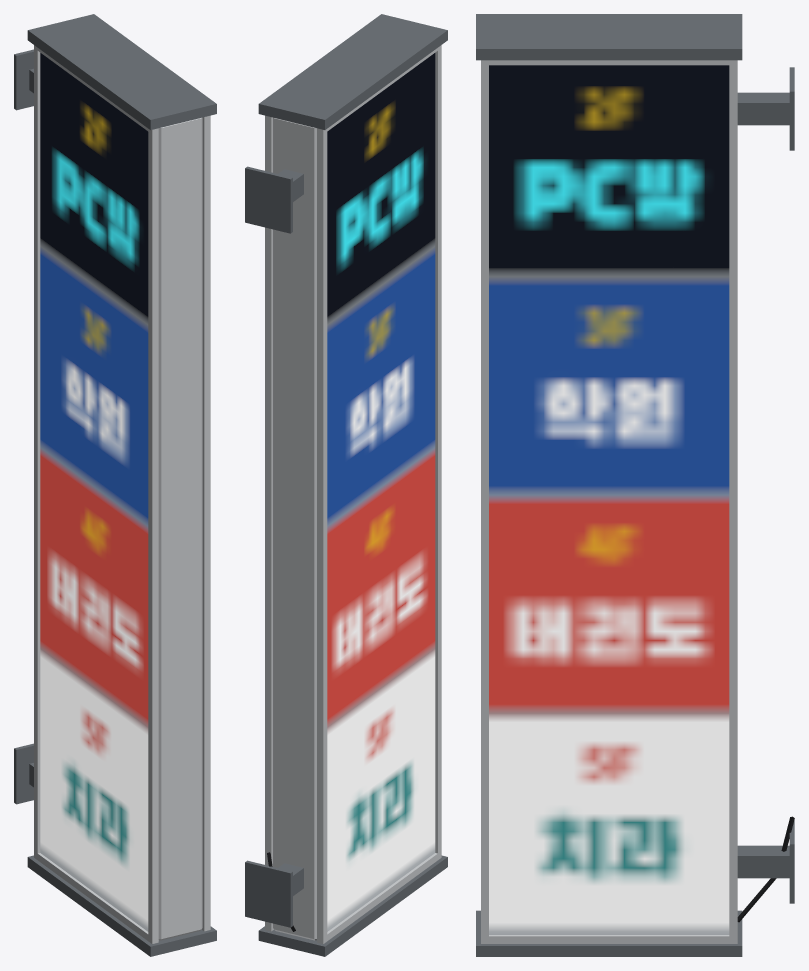
File: SC_Shop_Projecting_Sign_Tenants.gltf
3 views of the same model, side by side, from view 1: azimuth 30°, elevation 25°; view 2: azimuth 150°, elevation 25°; view 3: azimuth 270°, elevation 25° (orthographic). The views are drawn at different scales.
Parts seen in each view (by area): view 1: SC_Shop_Projecting_Sign_Tenants; view 2: SC_Shop_Projecting_Sign_Tenants; view 3: SC_Shop_Projecting_Sign_Tenants.
Boxes of the visible parts, x1,y1,x2,y2 form: SC_Shop_Projecting_Sign_Tenants: [14, 14, 216, 956]; SC_Shop_Projecting_Sign_Tenants: [245, 14, 447, 956]; SC_Shop_Projecting_Sign_Tenants: [476, 14, 794, 956].
Bounding box in the file's own units: 0.204 × 2.46 × 0.7828.
Materials: 2 (2 with a texture image).
